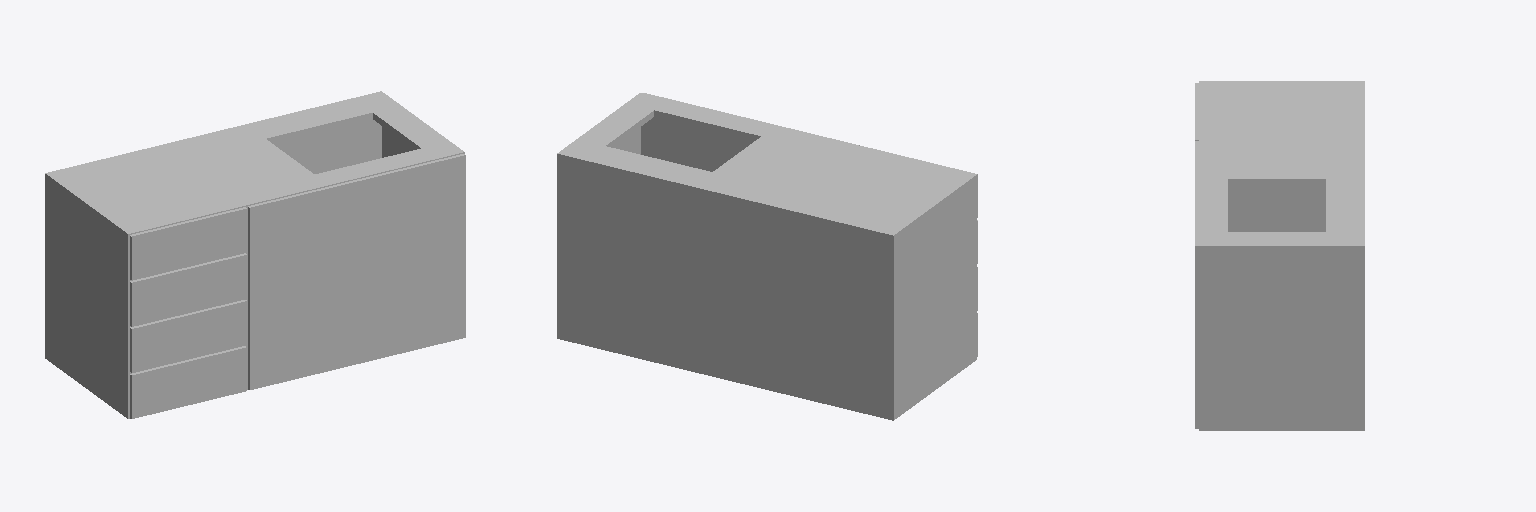
File: counter_base.obj
The picture shows the model from 3 angles: view 1: azimuth 30°, elevation 25°; view 2: azimuth 150°, elevation 25°; view 3: azimuth 270°, elevation 25°; orthographic projection.
Parts seen in each view (by area): view 1: Counterbase_Cube.002; view 2: Counterbase_Cube.002; view 3: Counterbase_Cube.002.
Part boxes in pixels (bbox=[...]): Counterbase_Cube.002: bbox=[45, 91, 465, 418]; Counterbase_Cube.002: bbox=[557, 93, 977, 420]; Counterbase_Cube.002: bbox=[1195, 81, 1364, 430].
Size of the model in its own units: 3.5 by 1.84 by 1.54.